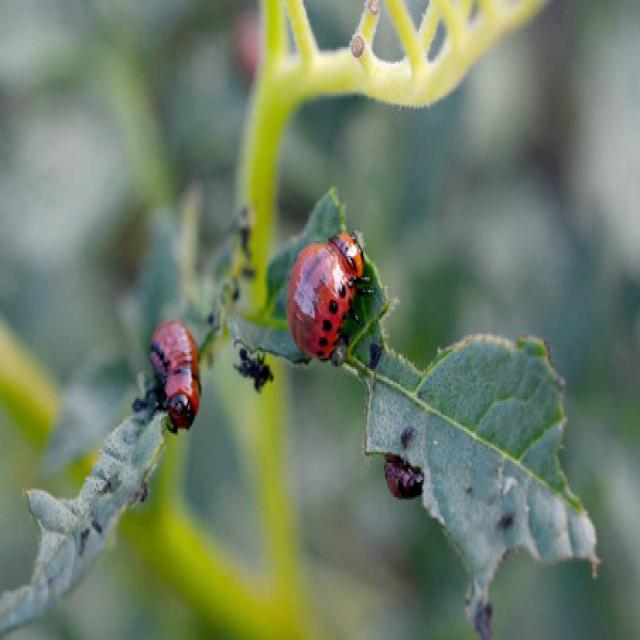ShuCaiHuaBanChong-Larva-: (274, 221, 378, 387)
